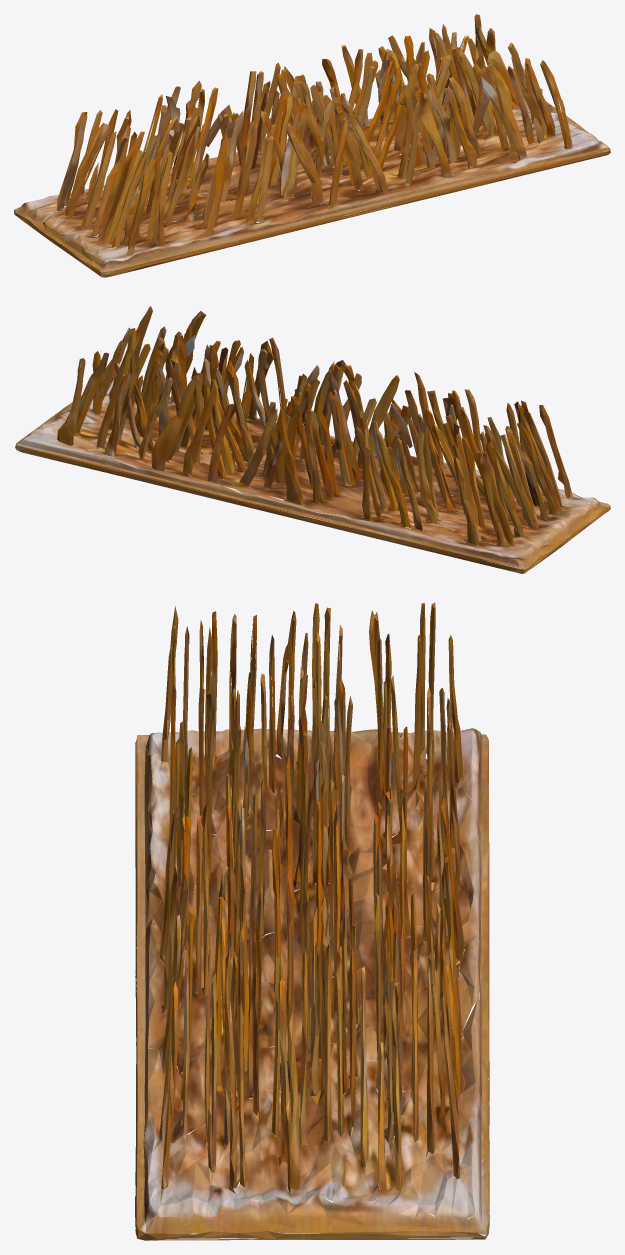
The model's file is wt-outpost-stakes.glb.
3 views of the same model, one above another, from view 1: azimuth 30°, elevation 25°; view 2: azimuth 150°, elevation 25°; view 3: azimuth 270°, elevation 25° (orthographic). The views are drawn at different scales.
Parts seen in each view (by area): view 1: tmpk1uvzu0f.ply; view 2: tmpk1uvzu0f.ply; view 3: tmpk1uvzu0f.ply.
Part boxes in pixels (x1,y1,x2,y2): tmpk1uvzu0f.ply: (14,14,610,277); tmpk1uvzu0f.ply: (15,306,610,573); tmpk1uvzu0f.ply: (135,602,489,1240).
Bounding box in the file's own units: 5 × 1.02 × 1.5.
Materials: 1 (1 with a texture image).
